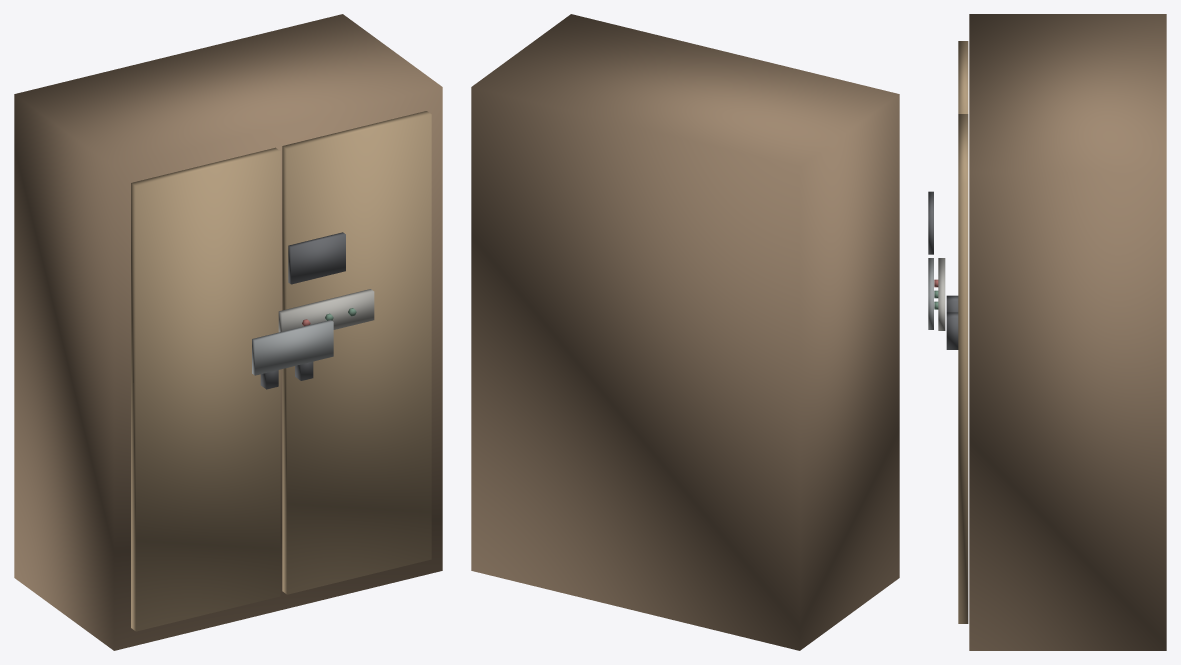
File: kitchen_wall_cabinet__weathered.glb
3 views of the same model, side by side, from view 1: azimuth 30°, elevation 25°; view 2: azimuth 150°, elevation 25°; view 3: azimuth 270°, elevation 25° (orthographic).
Parts seen in each view (by area): view 1: world; view 2: world; view 3: world.
Boxes of the visible parts, x1,y1,x2,y2 form: world: (14, 14, 442, 650); world: (471, 14, 899, 650); world: (928, 14, 1166, 650).
Size of the model in its own units: 0.95 by 1.34 by 0.6041.
